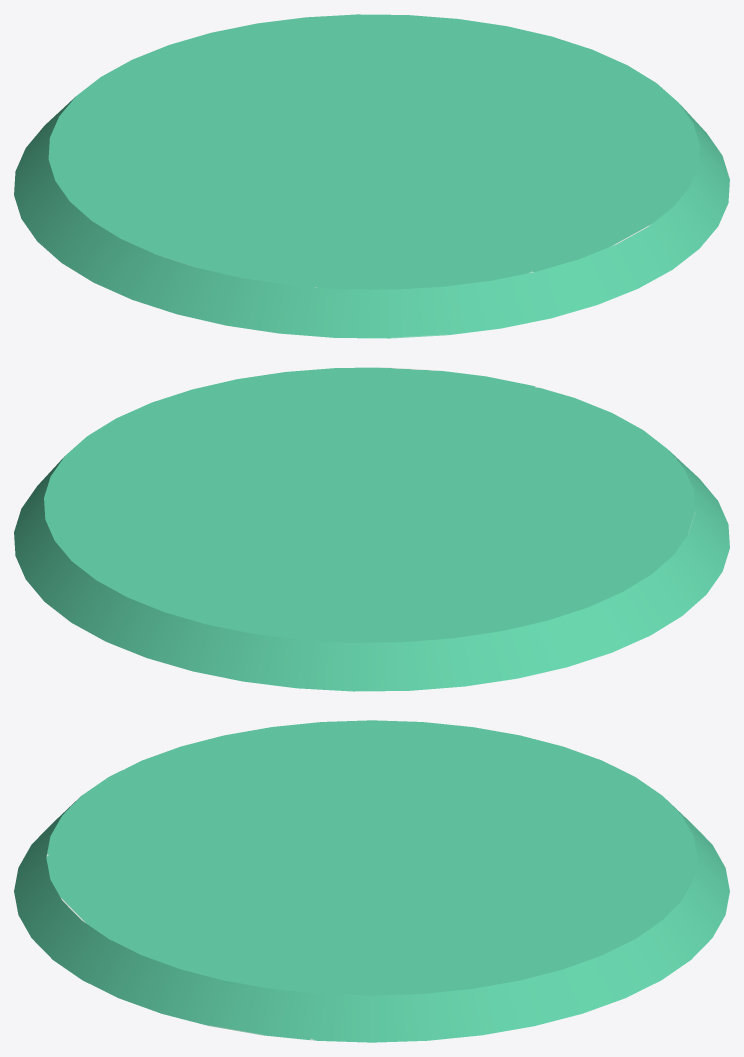
Rendered from platform.fbx.
The picture shows the model from 3 angles, top to bottom: view 1: azimuth 30°, elevation 25°; view 2: azimuth 150°, elevation 25°; view 3: azimuth 270°, elevation 25°; orthographic projection.
Parts seen in each view (by area): view 1: pCylinder1; view 2: pCylinder1; view 3: pCylinder1.
Part boxes in pixels (x1=…): pCylinder1: x1=14, y1=14, x2=729, y2=338; pCylinder1: x1=14, y1=367, x2=729, y2=691; pCylinder1: x1=14, y1=720, x2=729, y2=1042.
Size of the model in its own units: 39.46 by 2.1 by 39.46.
1 material, 1 textured.
